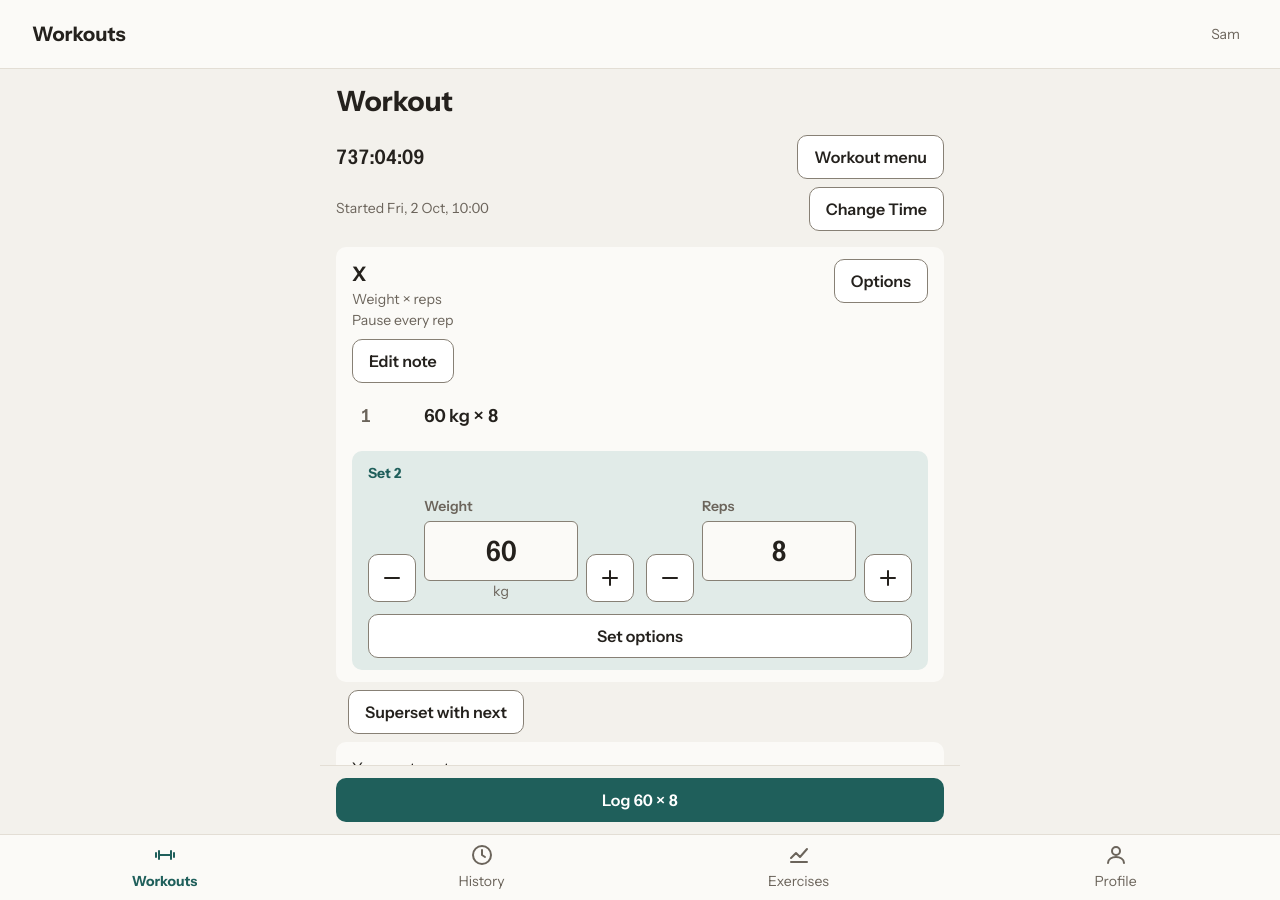
it: 10.3 AC29 — Finish waits for notes › a failed note keeps Finish disabled until it is discarded
Expected: the heading "Workout" is shown, [336,84,453,118]
Click the button with aria-label "Edit note for X".
click(403, 361)  # box [352,339,454,383]
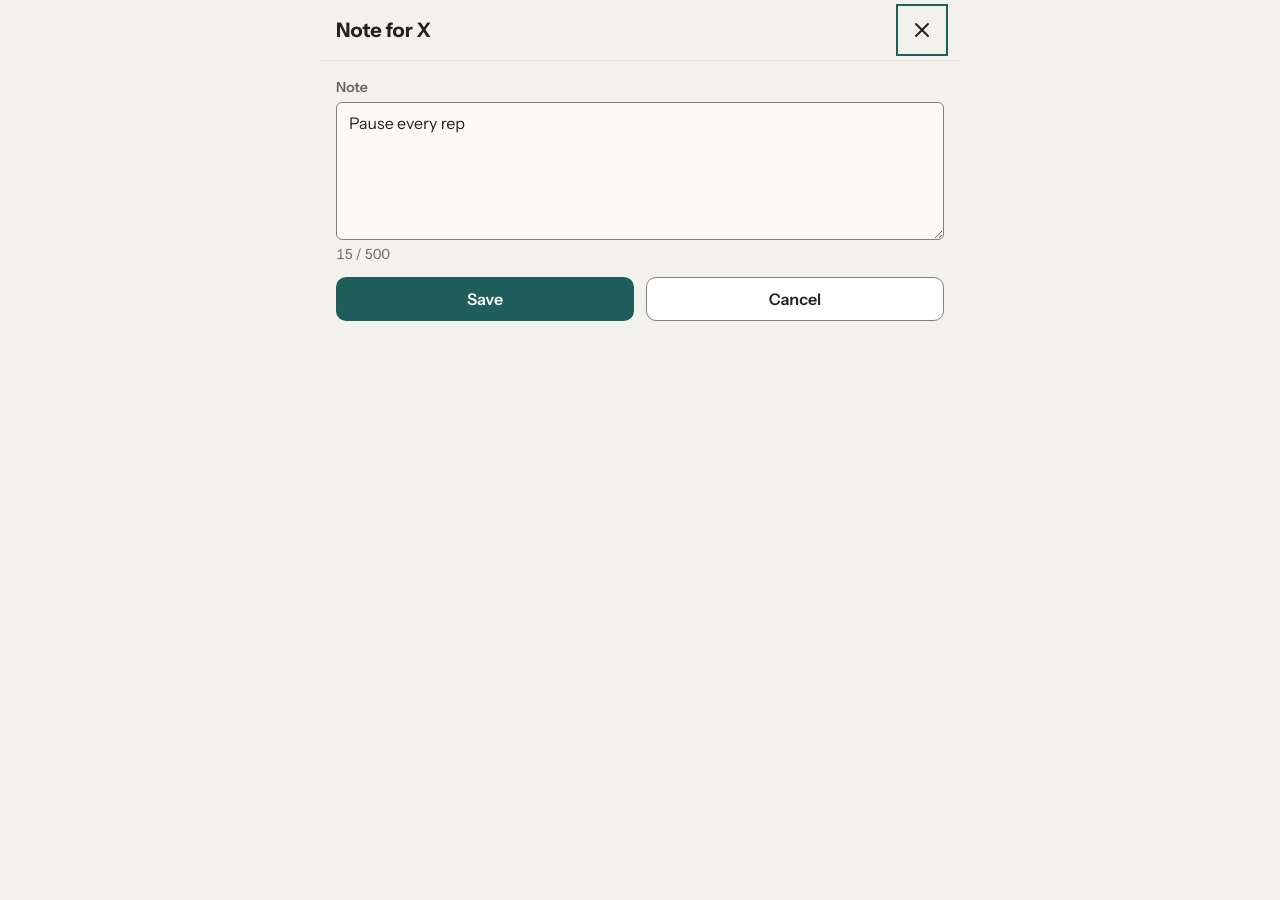
Type "!" into the text box labelled "Note".
click(640, 171); type("!")  # box [336,102,944,240]
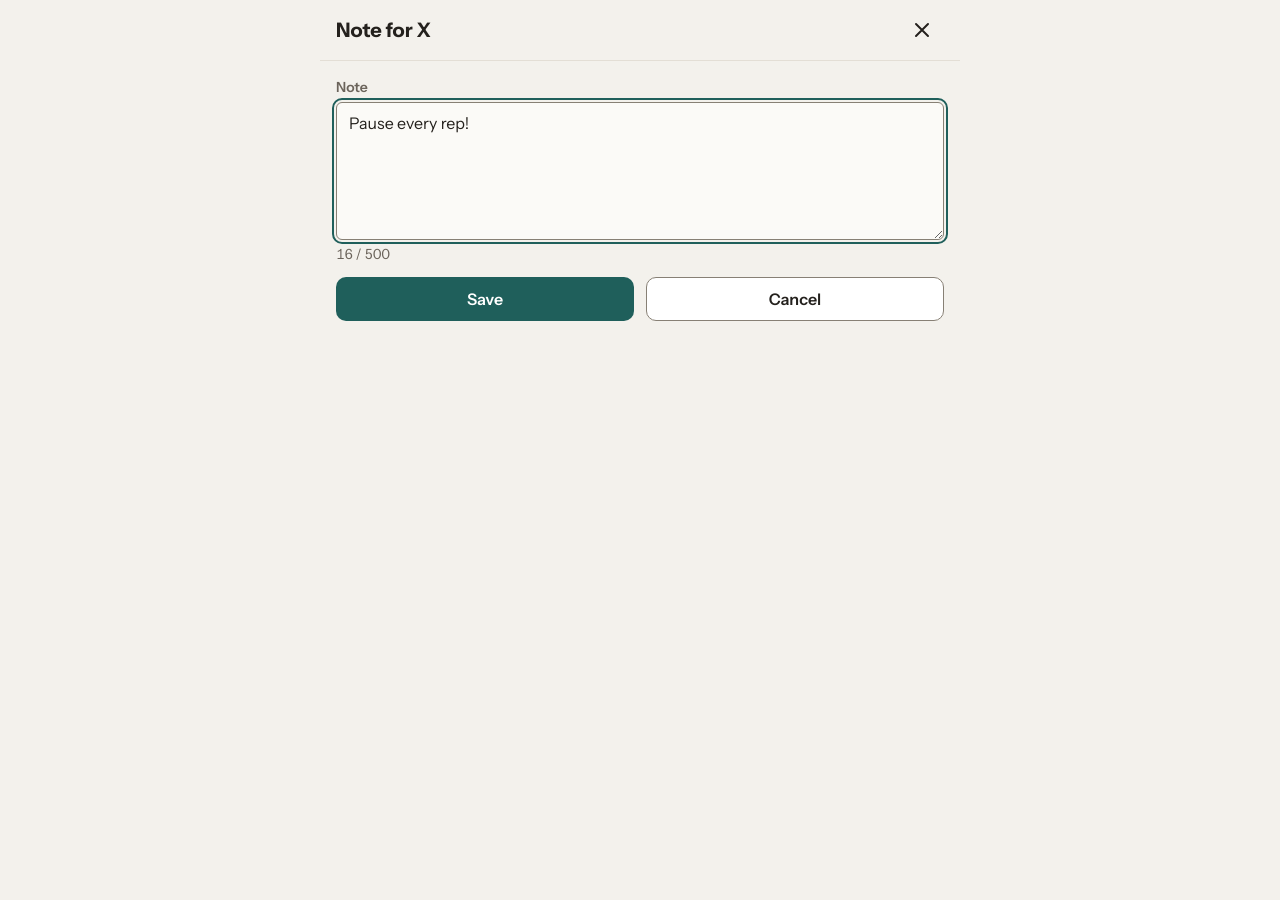
Click the button "Save".
click(485, 299)  # box [336,277,634,321]
(page scrolled)
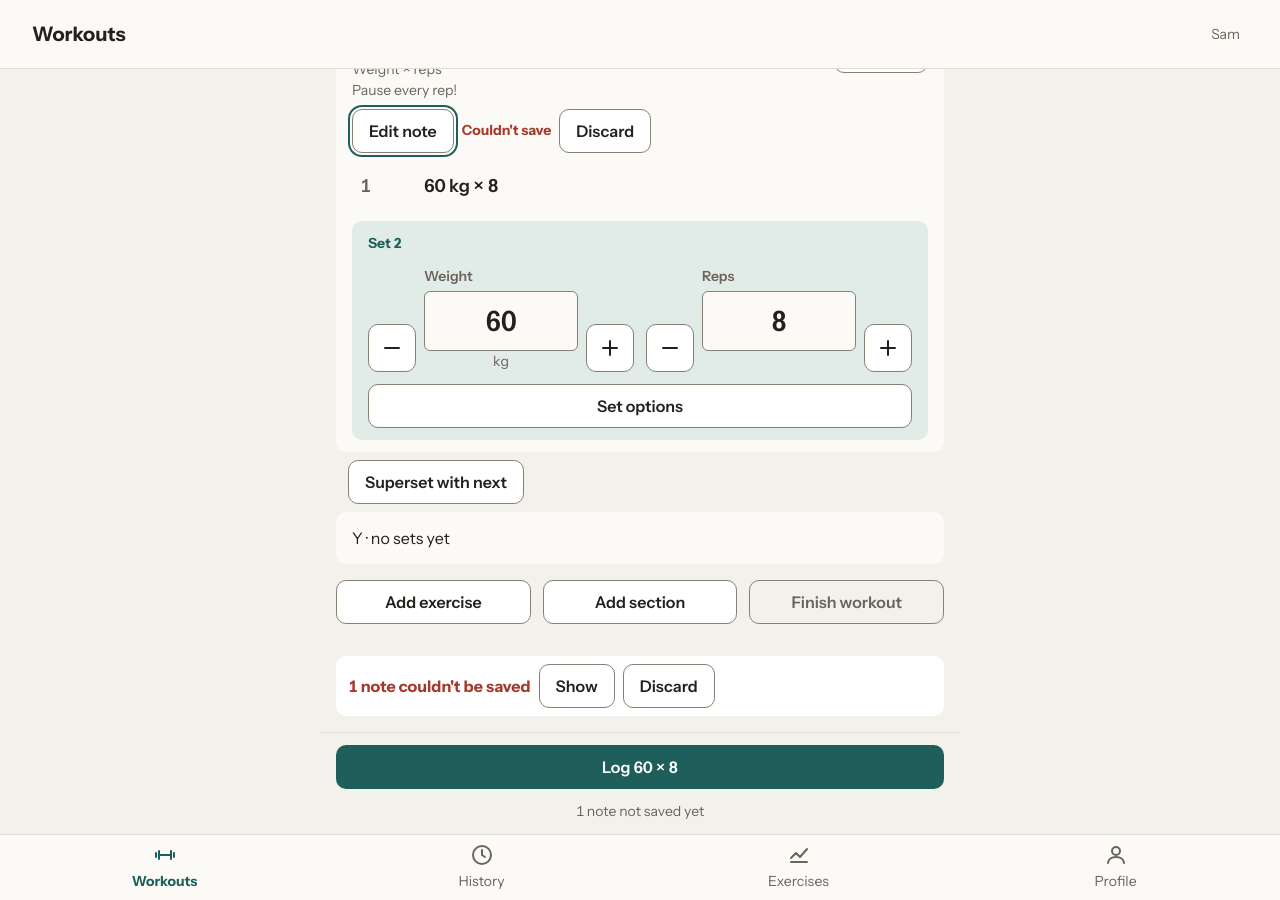
Expected: the text "1 note couldn't be saved" is shown, [348,674,530,698]
Expected: the button "Finish workout" is disabled, [749,580,944,624]
Click the button "Discard " in the row of "couldn't be saved".
click(669, 686)  # box [623,664,715,708]
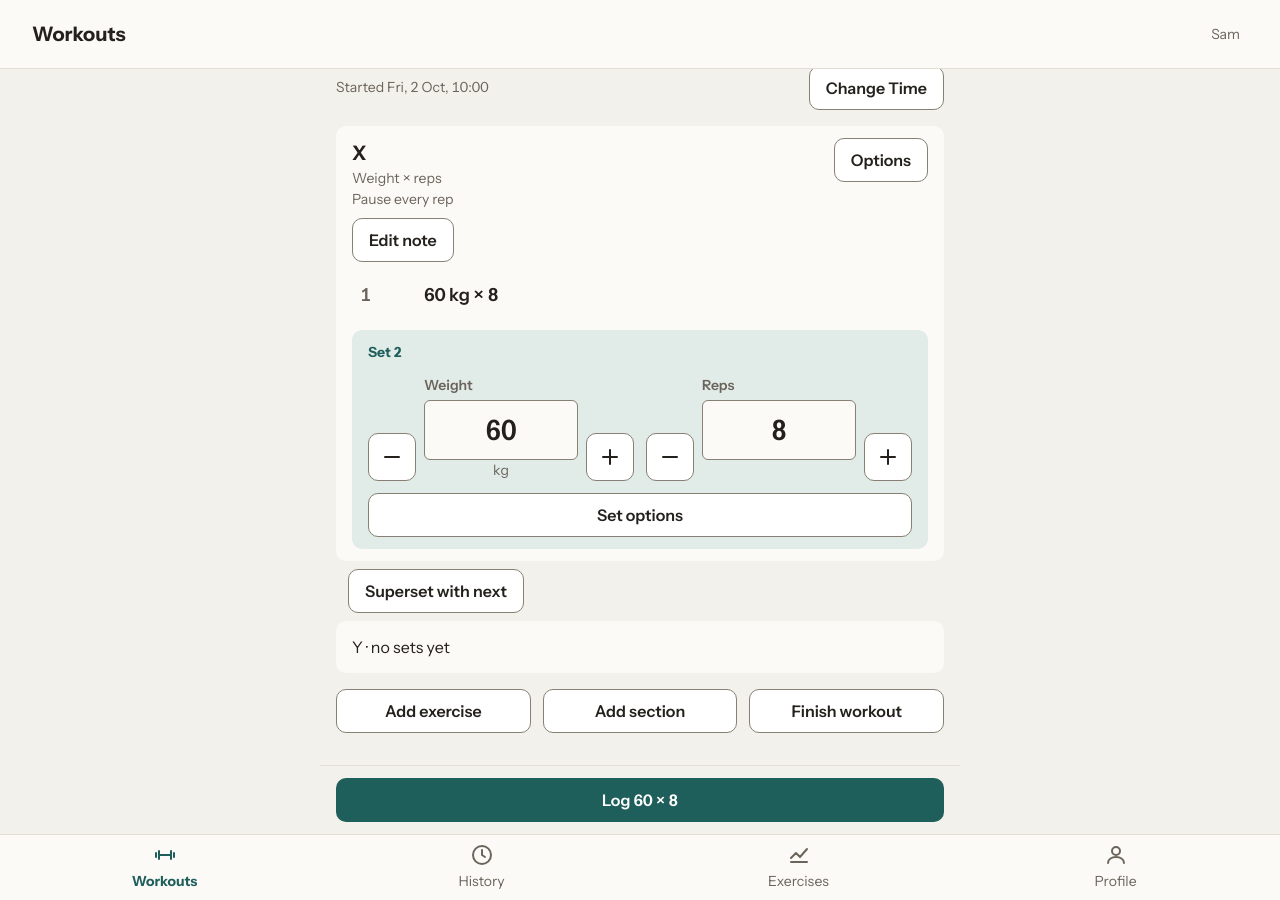
Expected: the button "Finish workout" is enabled, [749,689,944,733]
